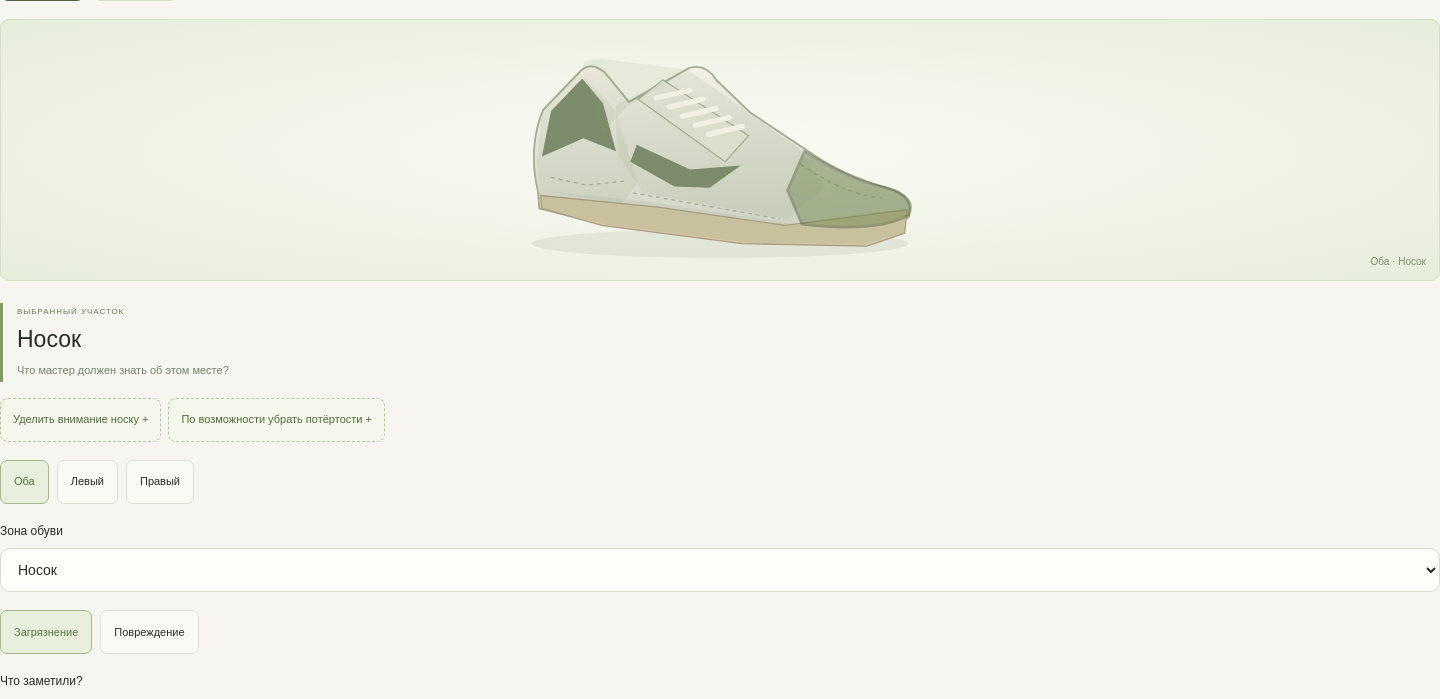
Test: adds a right-shoe damage mark through accessible controls and can remove it
Select "Носок" in the dropdown labelled "Зона обуви" at (720, 570), box [0,548,1439,592]
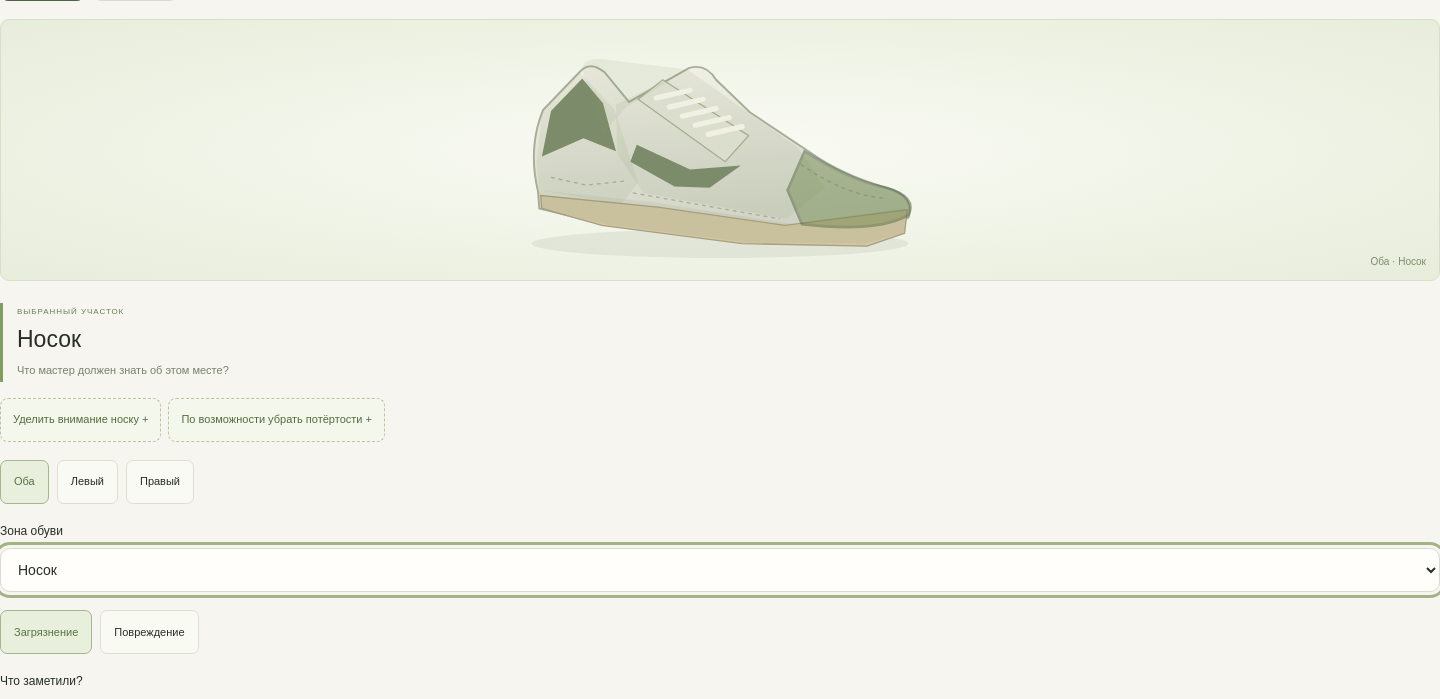
Click the button "Правый".
click(160, 482)  # box [126,460,194,504]
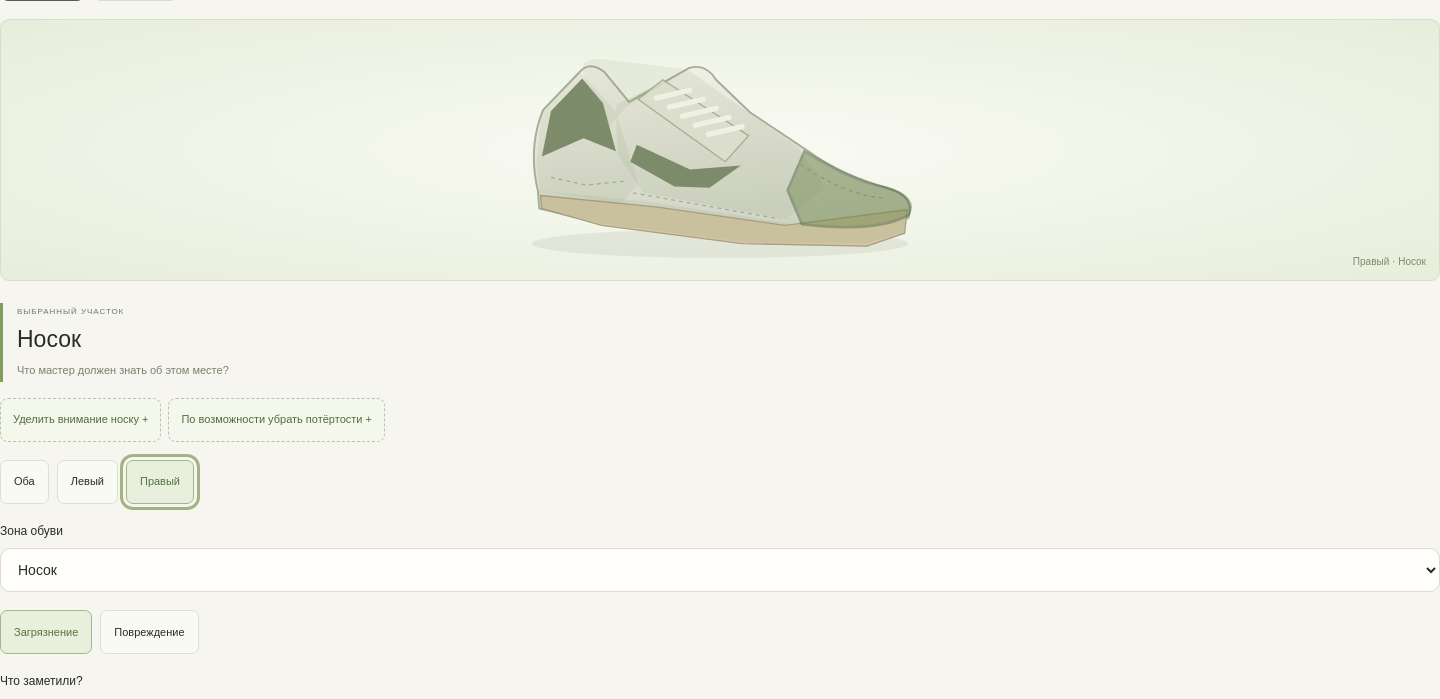
Click the button "Повреждение".
click(149, 632)  # box [100,610,198,654]
(page scrolled)
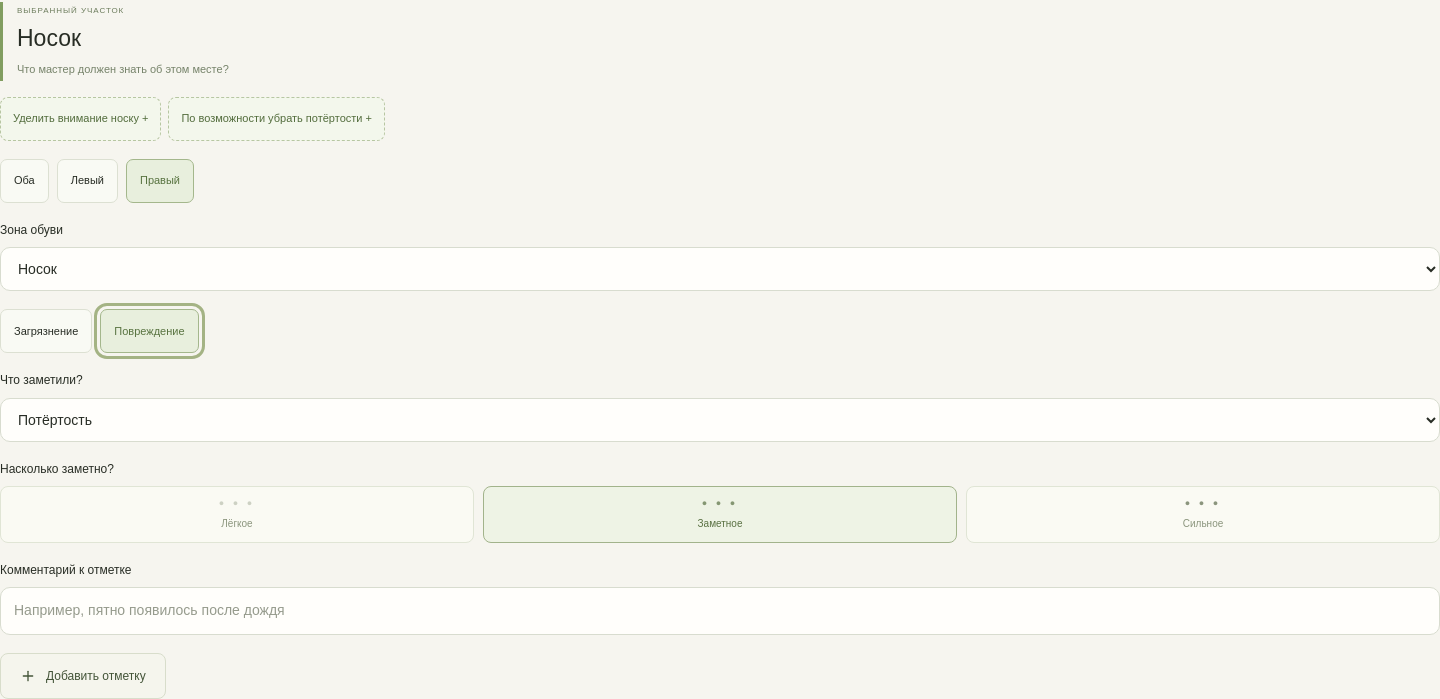
Click the button "● ● ● Сильное".
click(1203, 503)  # box [966,486,1439,543]
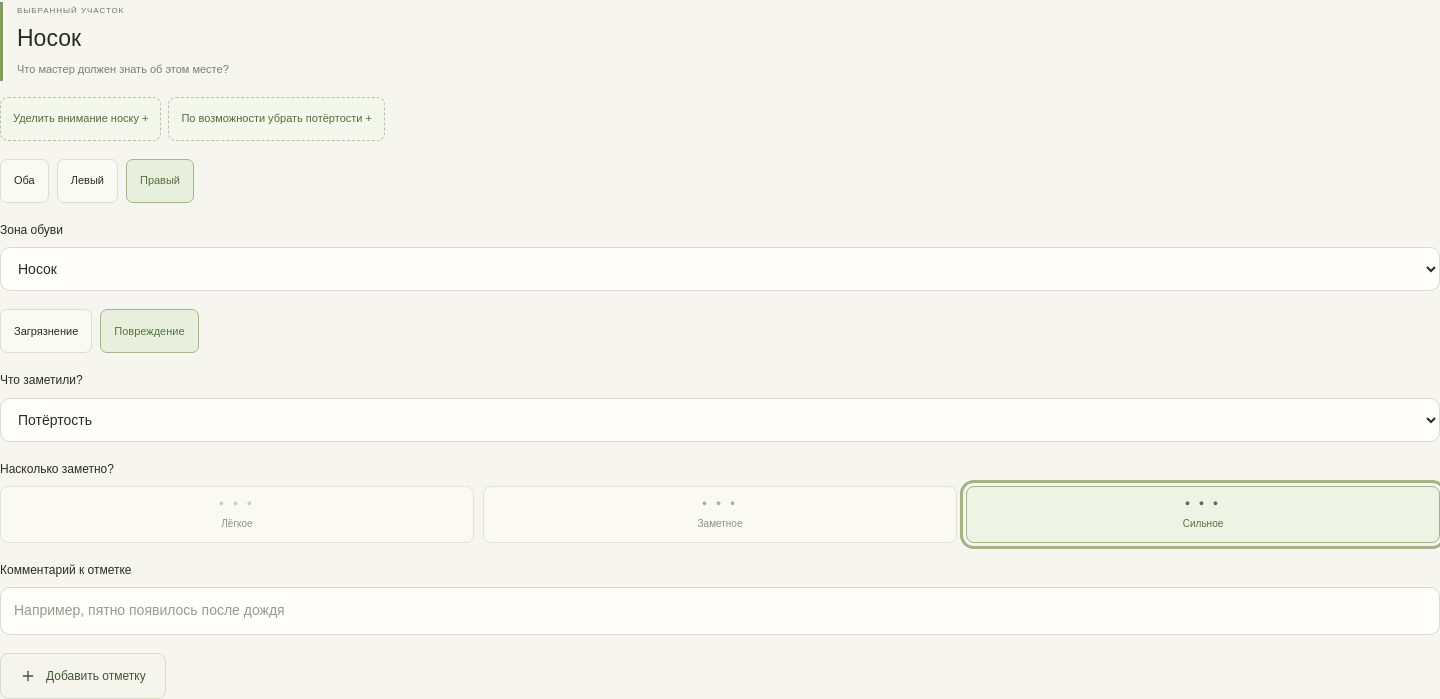
Click the button "Добавить отметку".
click(83, 676)  # box [0,653,166,698]
(page scrolled)
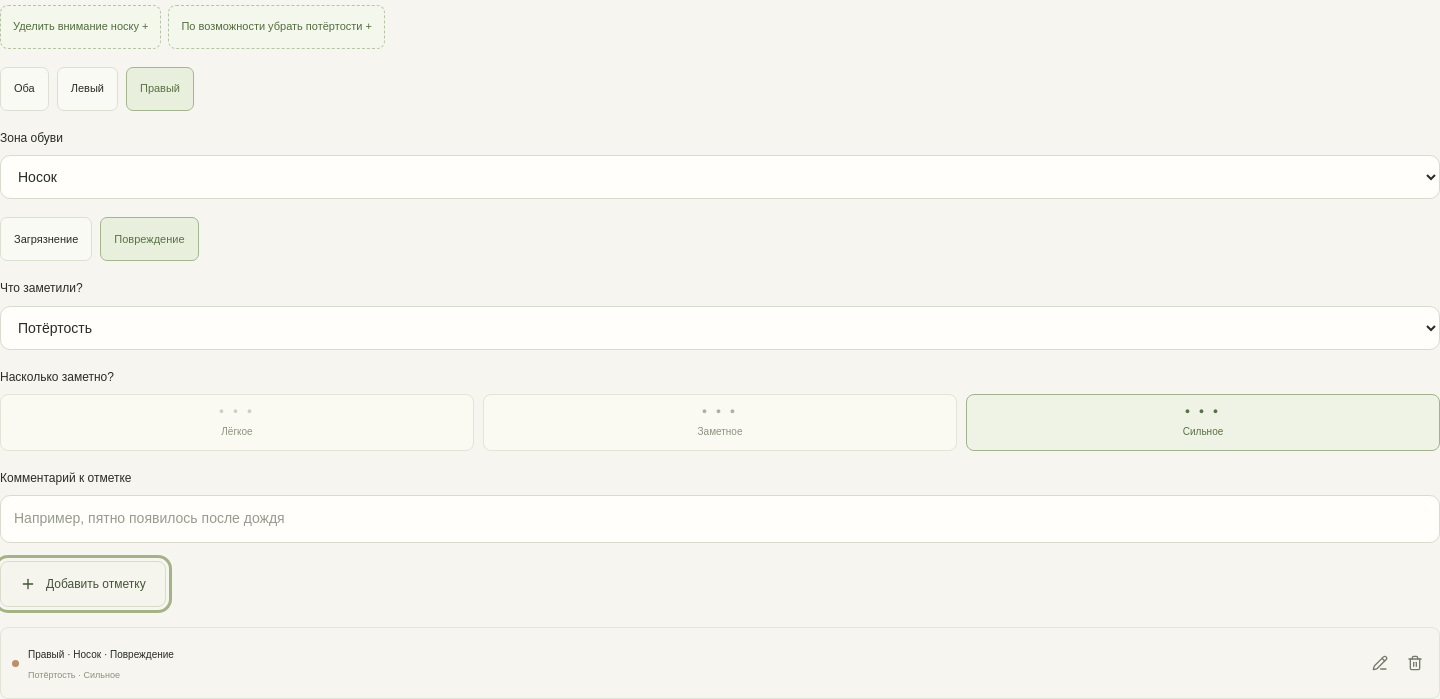
Result: the text "Правый · Носок · Повреждение" is shown at [28,649,174,660]
Click the button named "Удалить отметку".
click(1415, 663)  # box [1402,641,1428,685]
(page scrolled)
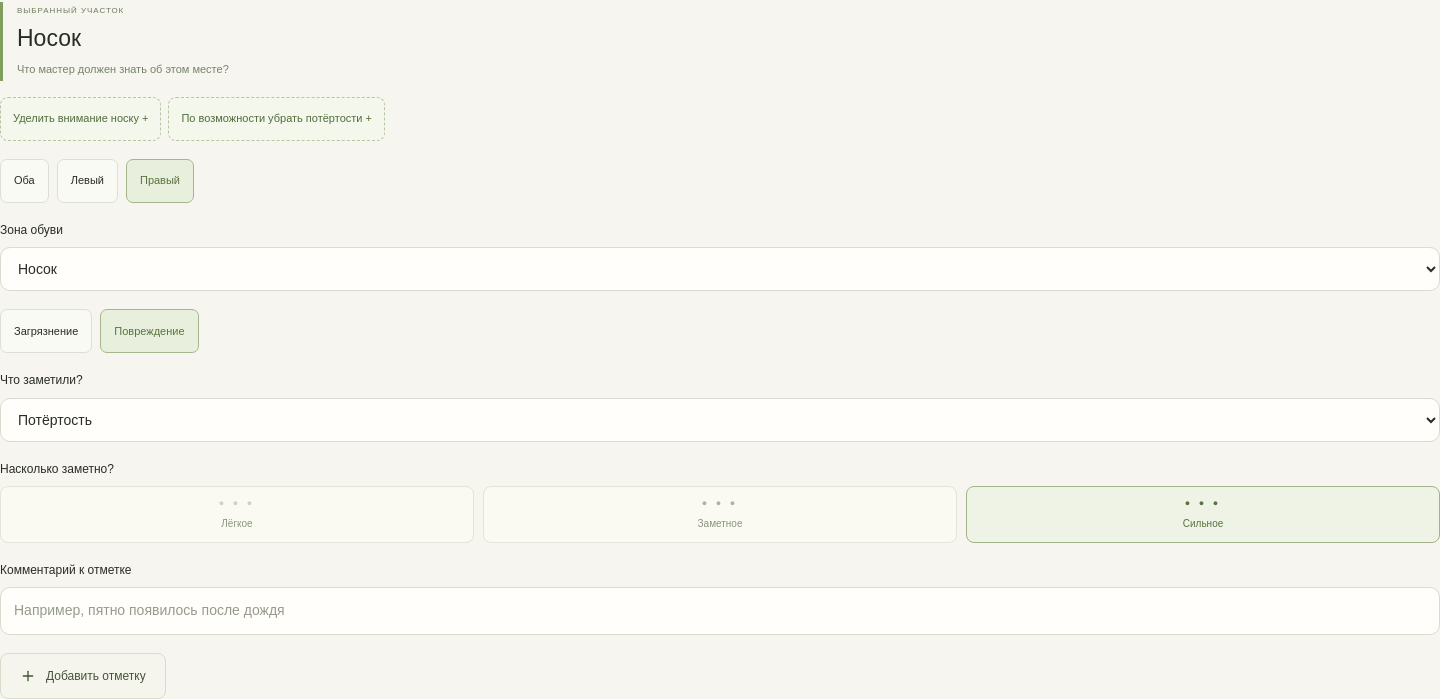
Result: the text "Правый · Носок · Повреждение" is gone
